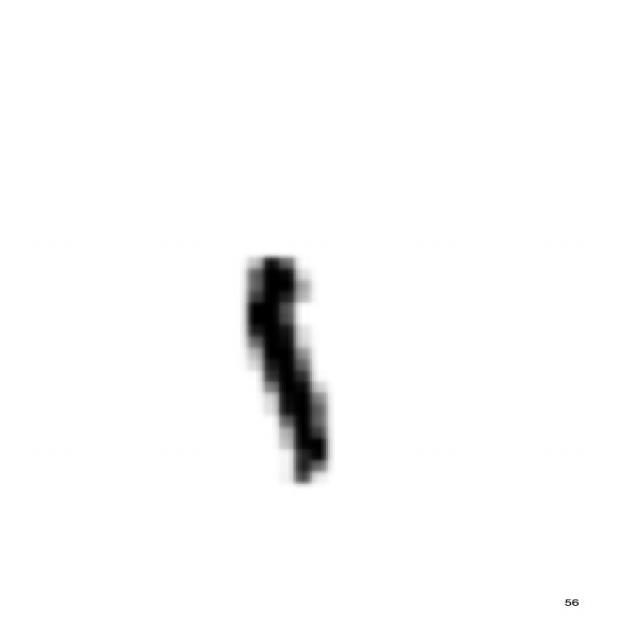1 -one-: (218, 238, 342, 493)
